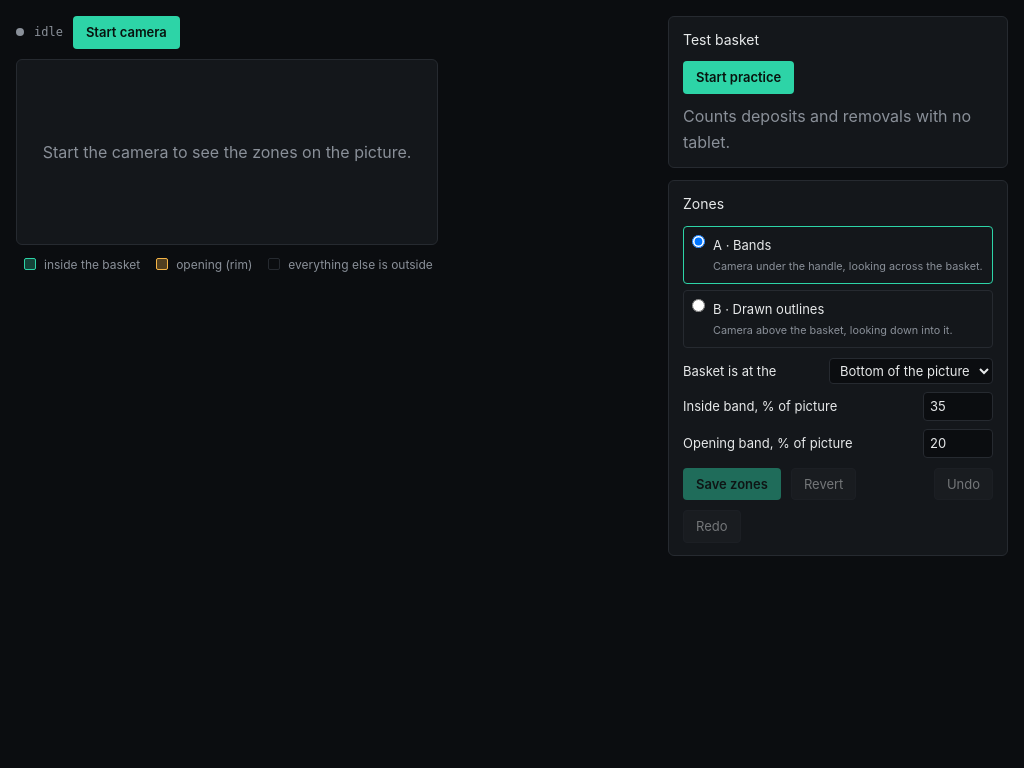
Test case: BasketTestView › starts a practice run, and shows the basket and its review reasons
Step 1. Click the button with test id "bt-practice-start" → (739, 78), box x1=683 y1=61 x2=794 y2=94
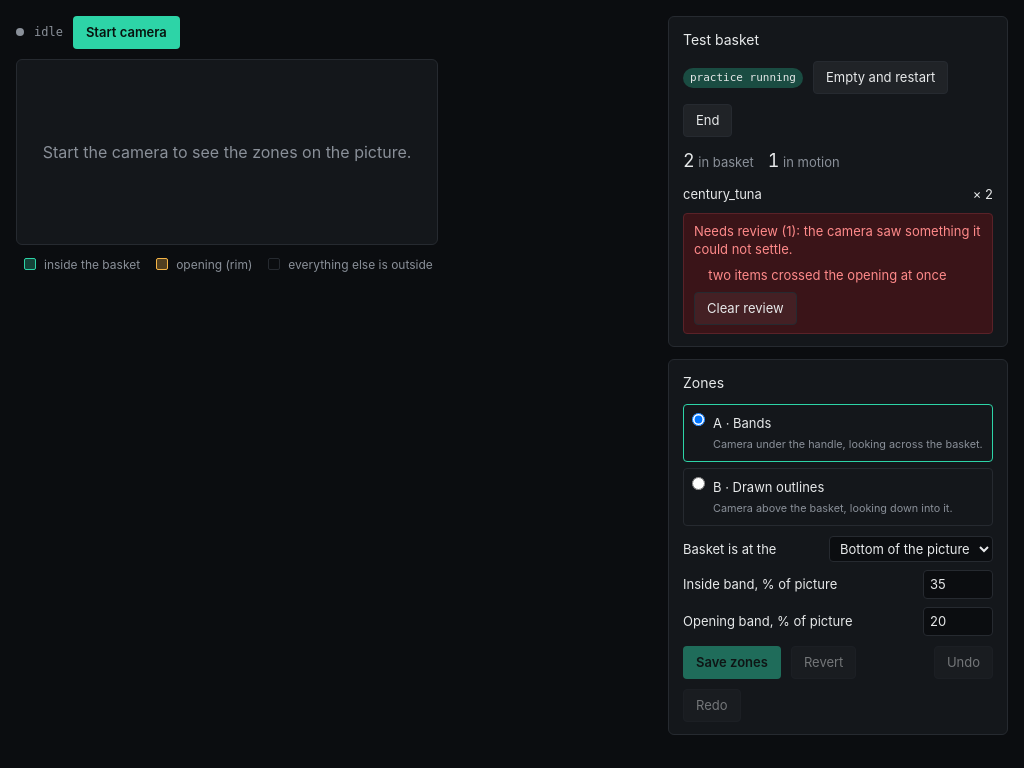
Now the text "practice running" is shown, box x1=683 y1=68 x2=803 y2=88
Now the text with test id "bt-count" reads "2", box x1=683 y1=150 x2=695 y2=171
Now the list with test id "bt-items" shows "century_tuna", box x1=683 y1=186 x2=762 y2=202
